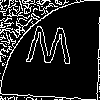W: (24, 25, 73, 75)
